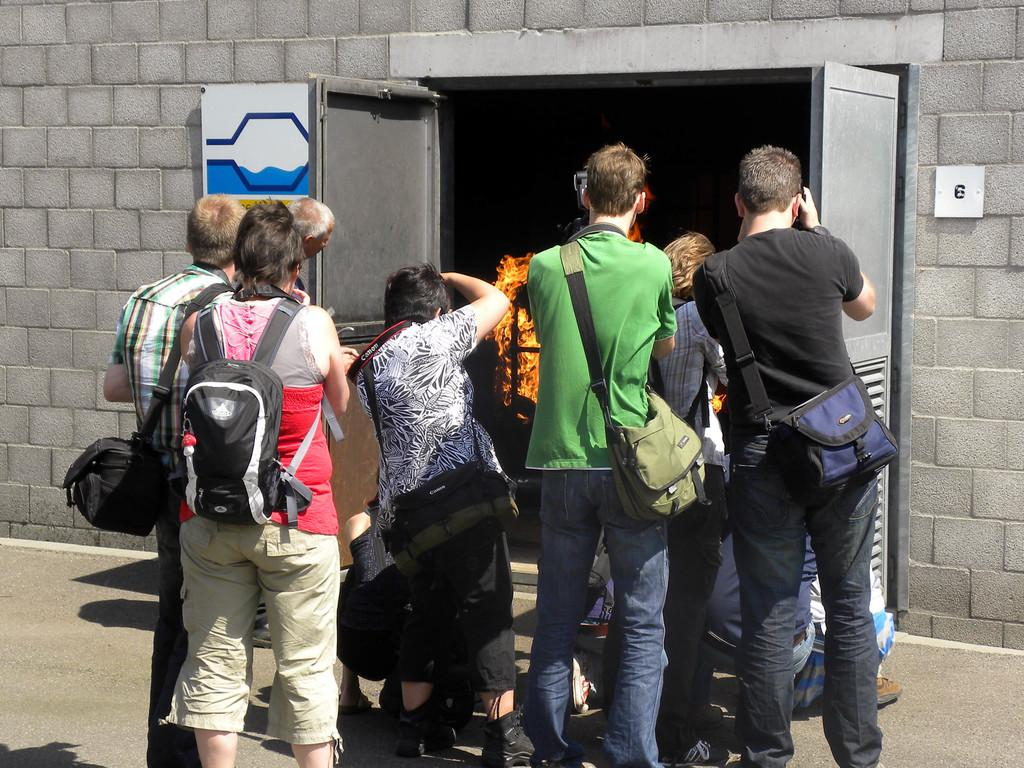Luggage-and-bags: (703, 247, 900, 503), (349, 322, 515, 592), (559, 241, 714, 527), (63, 283, 236, 539), (161, 363, 268, 502)
